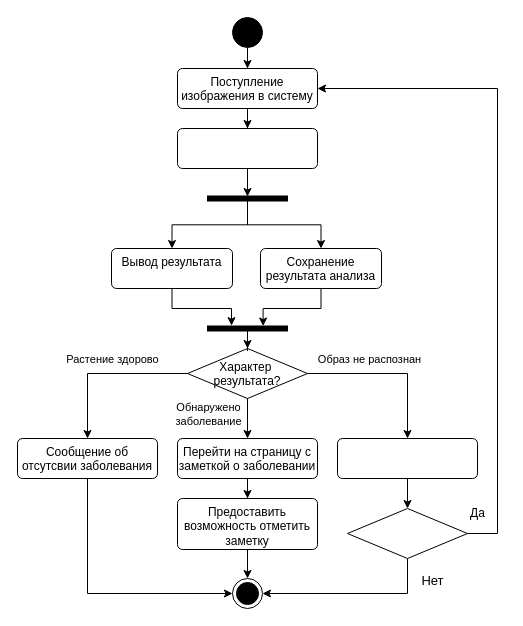
This 523x626 diagram has some shape labels left out. The centre of each missing label's shape, as x and y in pixels:
Анализ изображения: (x=247, y=148)
Повторить?: (x=407, y=533)
Предложение о повторной попытке: (x=407, y=458)
